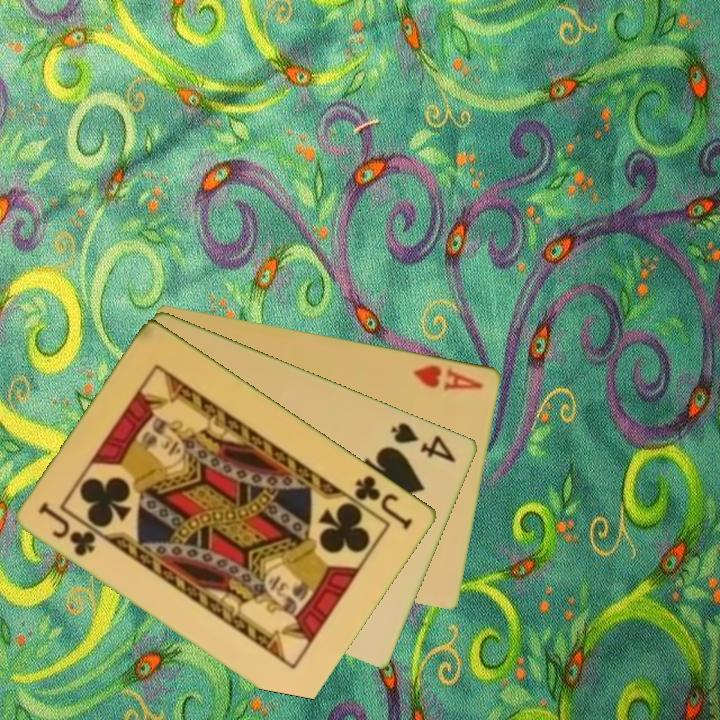4s: (387, 418, 459, 466)
Ah: (410, 361, 487, 394)
Jc: (351, 471, 416, 533), (35, 498, 100, 559)
